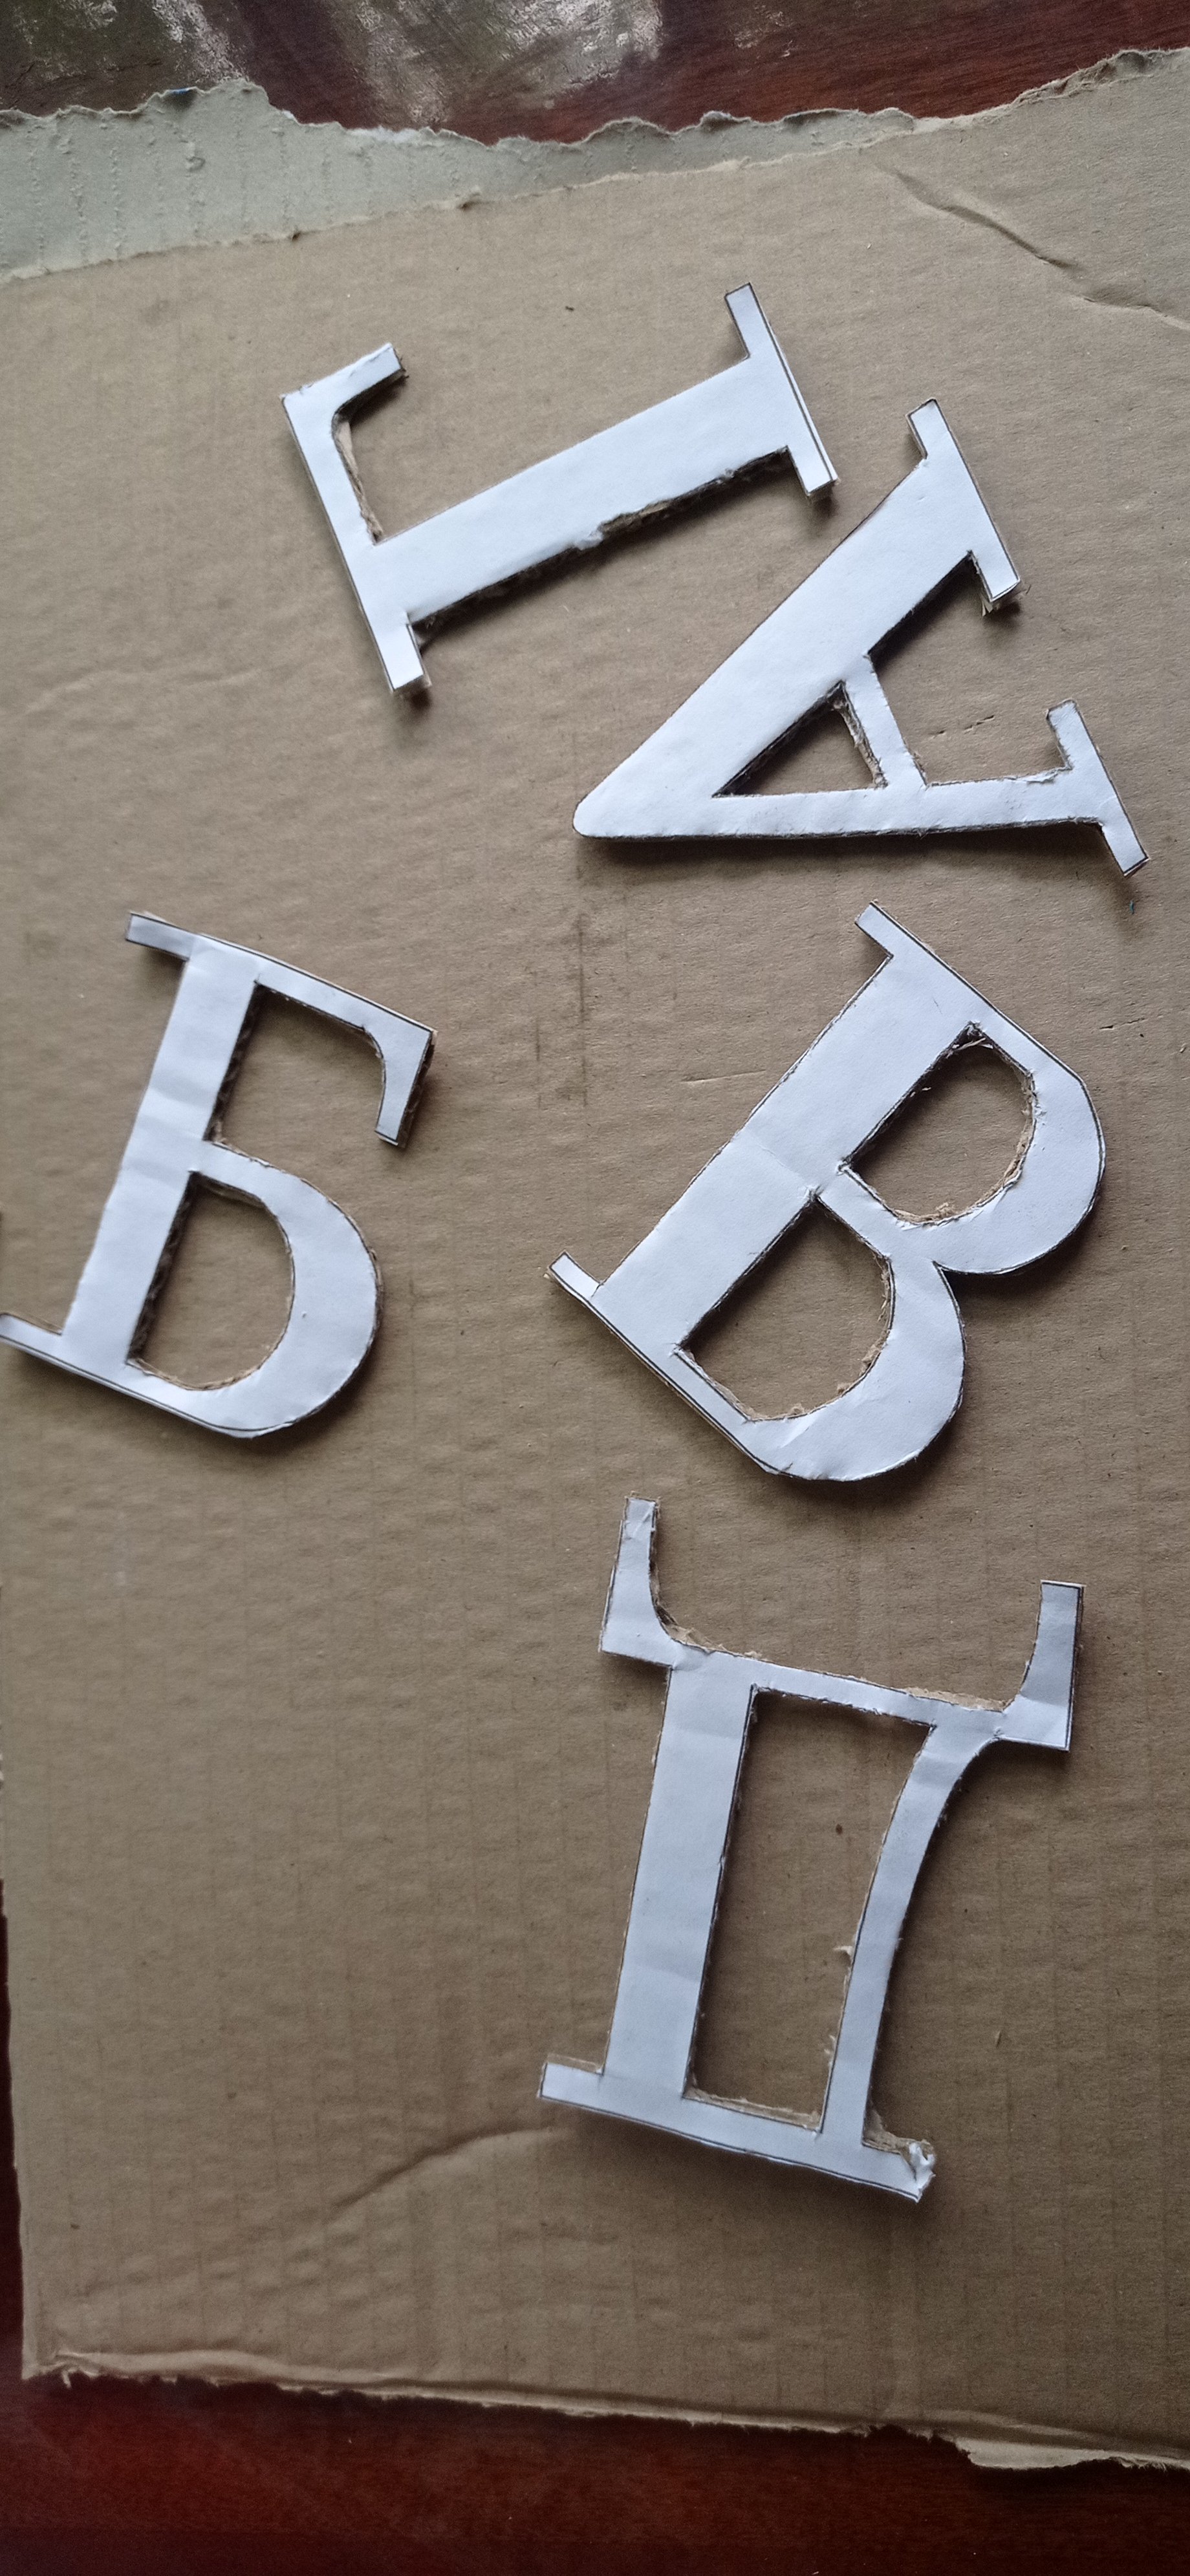a: (565, 394, 1154, 877)
b: (7, 913, 439, 1439)
d: (531, 1495, 1083, 2205)
g: (273, 276, 843, 705)
v: (542, 897, 1105, 1490)
